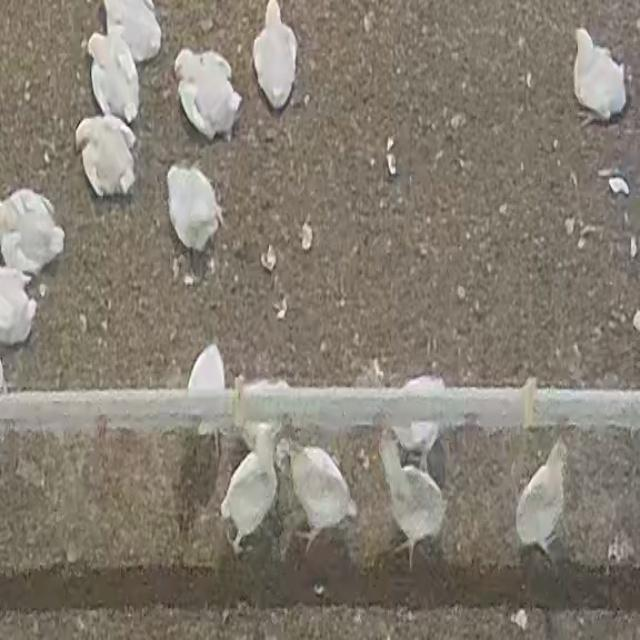chicken: (376, 428, 448, 568), (285, 437, 357, 555), (217, 431, 280, 558), (515, 433, 568, 561), (173, 47, 241, 142), (0, 189, 65, 276), (160, 162, 221, 252), (571, 26, 625, 124), (75, 114, 138, 198), (86, 29, 140, 124), (390, 372, 443, 468), (252, 0, 297, 111), (95, 0, 163, 60), (187, 344, 228, 440), (239, 381, 292, 452)
